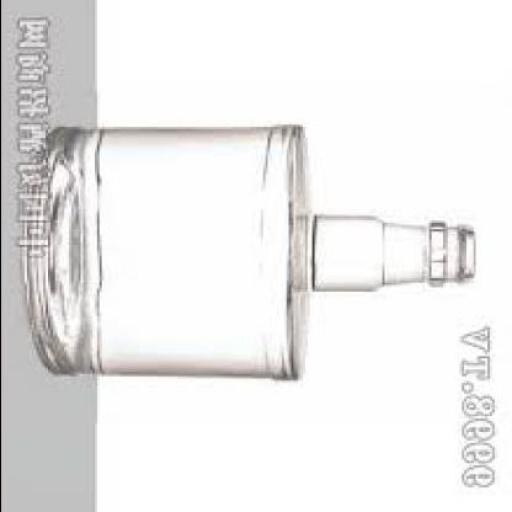glass: (26, 127, 479, 383)
